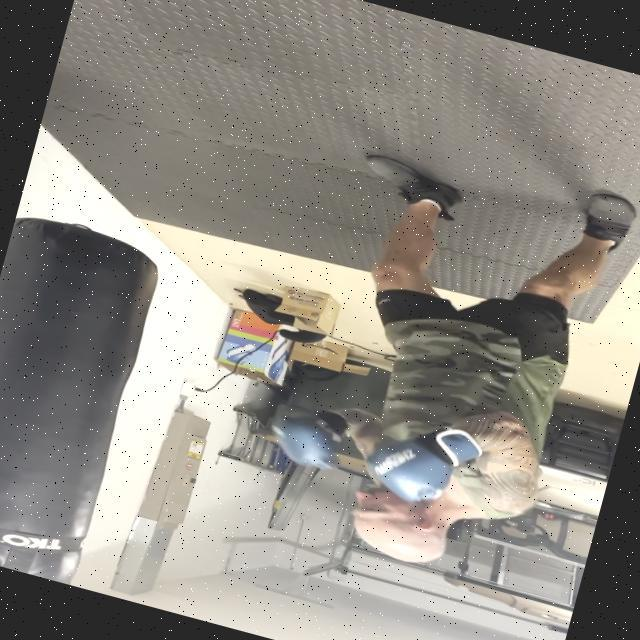bag: (0, 210, 173, 587)
no punch: (239, 356, 552, 586)
